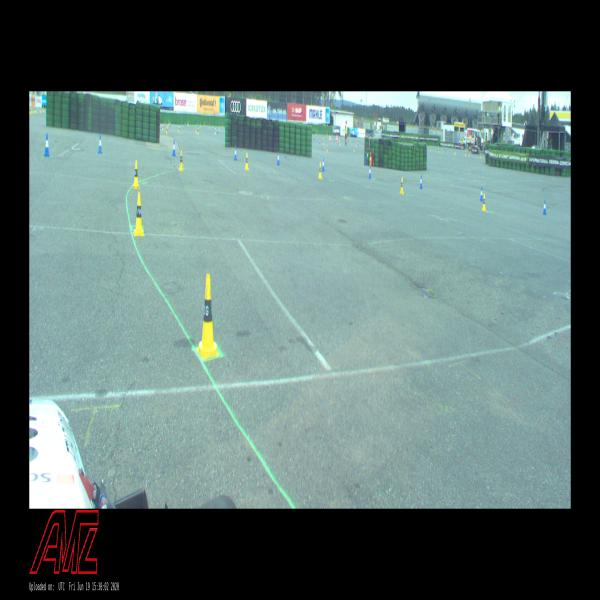blue_cone: (44, 134, 50, 158), (98, 134, 102, 153), (172, 139, 176, 156), (542, 200, 546, 215), (277, 151, 280, 166), (234, 146, 237, 160), (480, 186, 482, 201), (366, 150, 369, 160), (420, 176, 422, 189), (322, 158, 324, 171), (369, 166, 371, 178), (196, 122, 198, 128), (212, 124, 214, 130), (313, 134, 315, 140), (362, 140, 364, 145), (170, 120, 171, 126), (185, 121, 186, 127), (218, 128, 219, 134), (319, 138, 320, 144), (161, 124, 162, 129), (334, 137, 335, 142), (437, 146, 438, 151), (427, 146, 428, 150), (434, 146, 435, 150), (444, 145, 445, 149), (445, 148, 446, 152), (448, 144, 449, 148), (180, 125, 180, 131), (323, 136, 323, 141), (338, 140, 338, 144), (358, 140, 358, 146)
large_orange_cone: (330, 134, 332, 142), (329, 134, 330, 142), (337, 134, 338, 142), (336, 134, 337, 141)
orange_cone: (168, 124, 169, 130), (324, 145, 325, 151)
yellow_cone: (197, 274, 219, 357), (134, 192, 144, 236), (133, 160, 140, 188), (179, 150, 184, 172), (244, 153, 249, 170), (400, 177, 404, 194), (482, 194, 486, 211), (318, 163, 322, 179), (166, 127, 168, 134), (35, 106, 37, 113), (31, 106, 33, 113), (162, 124, 164, 130), (178, 126, 180, 132), (326, 146, 328, 152), (195, 126, 197, 132), (468, 152, 470, 157), (188, 121, 190, 125), (326, 132, 328, 136), (370, 152, 371, 160), (198, 128, 199, 135), (40, 106, 41, 113), (215, 128, 216, 134), (323, 140, 324, 146), (454, 148, 455, 154), (480, 153, 481, 159), (34, 106, 35, 112), (353, 146, 354, 152), (43, 106, 44, 112), (316, 130, 317, 136), (322, 134, 323, 140), (356, 142, 357, 148), (465, 151, 466, 156), (200, 122, 201, 127), (438, 148, 439, 153), (168, 121, 169, 126), (204, 121, 205, 126), (222, 122, 223, 127), (430, 146, 431, 151), (219, 126, 220, 131), (339, 141, 340, 145), (350, 138, 351, 142), (187, 121, 188, 125), (363, 139, 364, 143), (442, 149, 443, 153), (30, 107, 30, 114), (210, 124, 210, 128)
